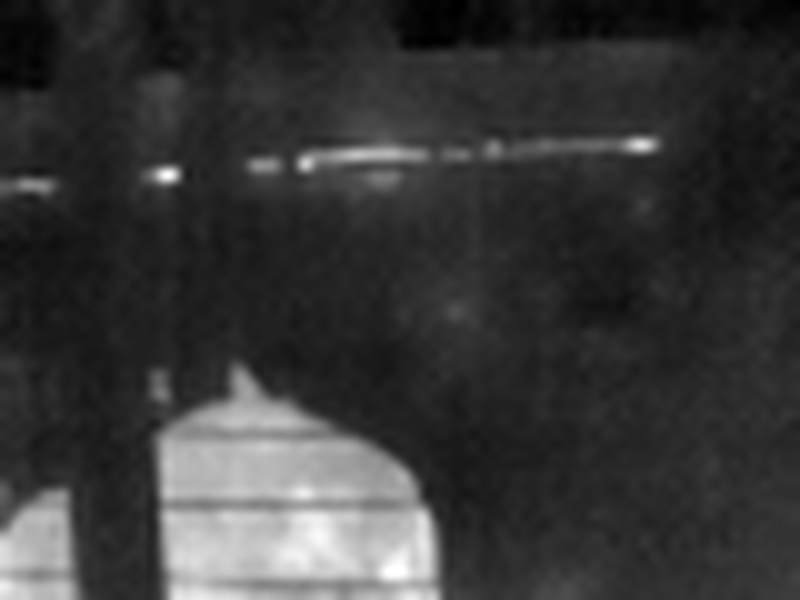elephant: (13, 376, 480, 600)
